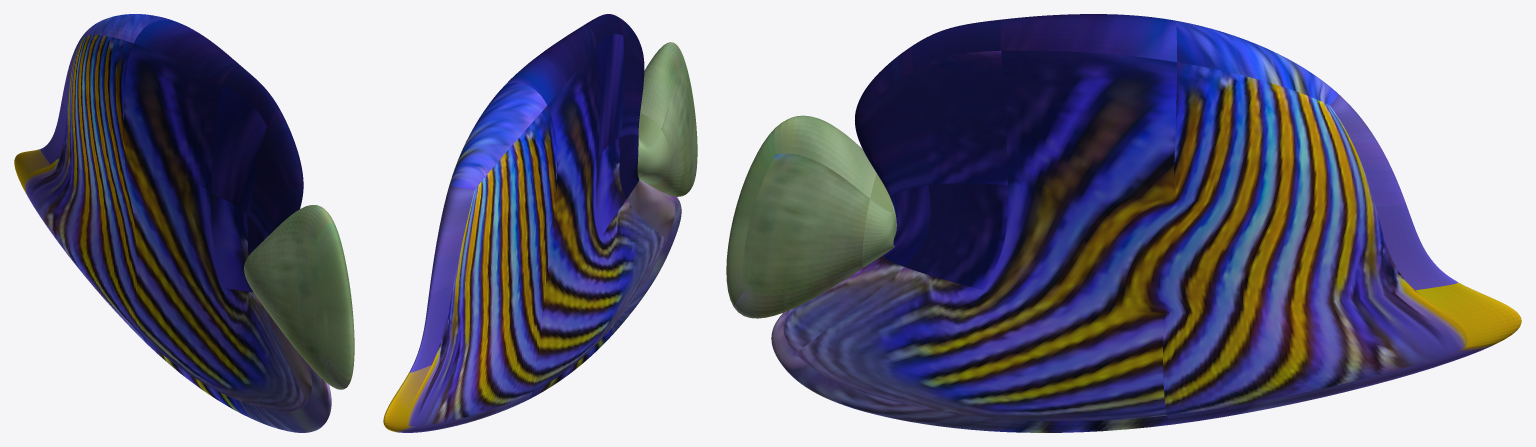
Rendered from bluefish2mid.obj.
3 views of the same model, side by side, from view 1: azimuth 30°, elevation 25°; view 2: azimuth 150°, elevation 25°; view 3: azimuth 270°, elevation 25° (orthographic). The views are drawn at different scales.
Parts seen in each view (by area): view 1: Cube; view 2: Cube; view 3: Cube.
Part boxes in pixels (left/top/right/bottom): Cube: left=14, top=14, right=354, bottom=432; Cube: left=383, top=14, right=697, bottom=432; Cube: left=726, top=14, right=1521, bottom=432.
Bounding box in the file's own units: 0.2277 × 1.03 × 1.79.
